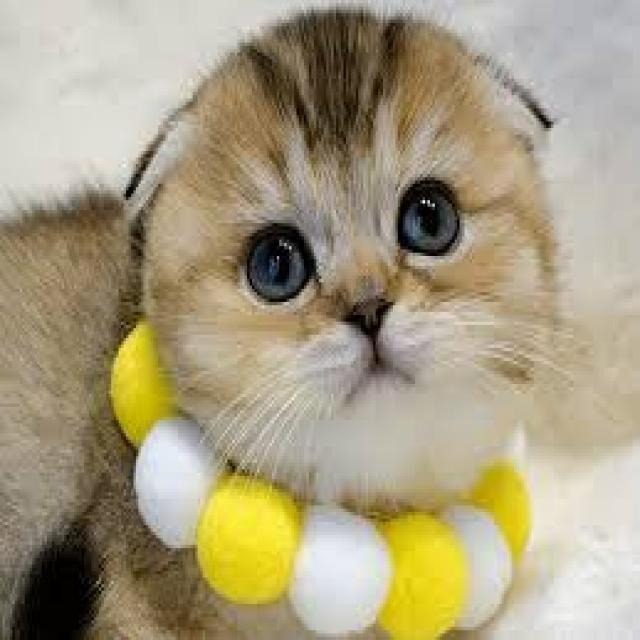cat-face: (88, 15, 623, 560)
